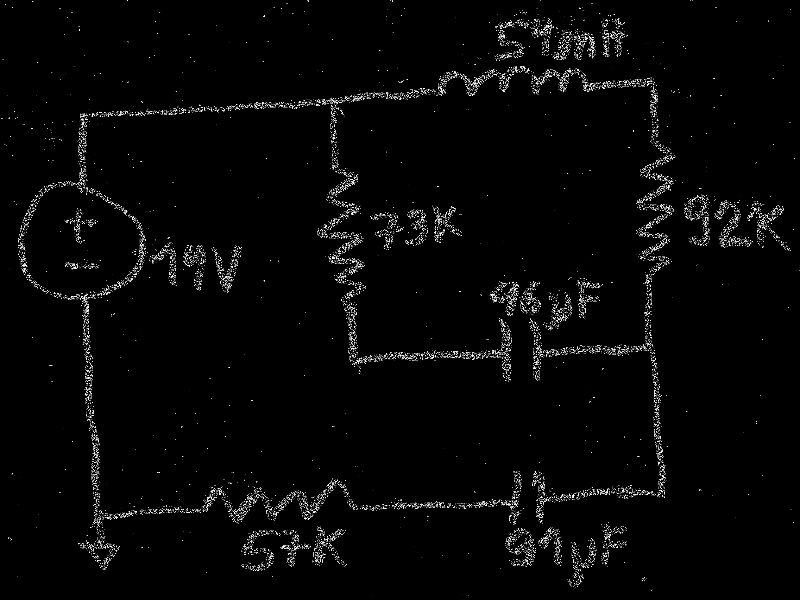-: (61, 260, 102, 272)
1: (148, 241, 178, 290), (536, 526, 566, 570)
2: (712, 199, 753, 250)
3: (404, 206, 428, 249)
4: (182, 242, 208, 293), (487, 278, 519, 319), (529, 16, 551, 58)
5: (239, 527, 281, 573), (491, 20, 529, 61)
6: (518, 278, 542, 317)
7: (367, 211, 404, 252), (279, 528, 311, 570)
9: (679, 193, 713, 252), (503, 526, 537, 569)
F: (600, 523, 629, 569), (575, 280, 603, 321)
H: (597, 16, 627, 60)
V: (208, 245, 244, 293)
k: (751, 199, 791, 254), (313, 524, 347, 570), (430, 204, 466, 243)
m: (552, 27, 598, 64)
u: (567, 539, 598, 588), (542, 292, 573, 332)
